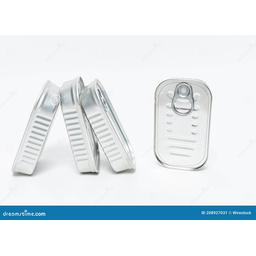metal: (143, 75, 218, 167), (4, 68, 60, 188), (79, 72, 139, 181), (52, 69, 104, 184)
